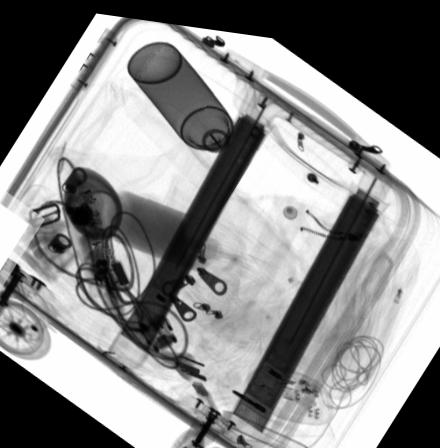Sprayer: (125, 36, 248, 164)
